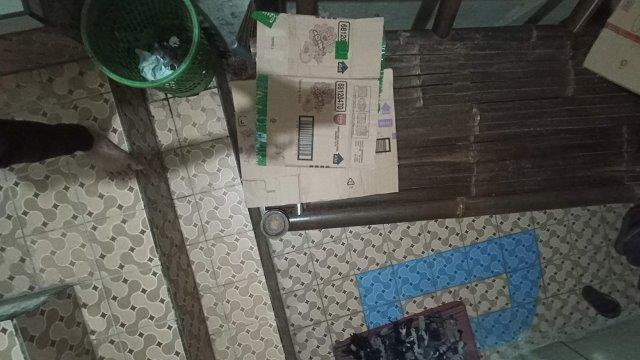kardus: (232, 14, 397, 207)
